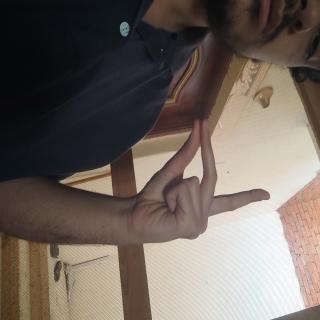TAA: (87, 64, 189, 258)
